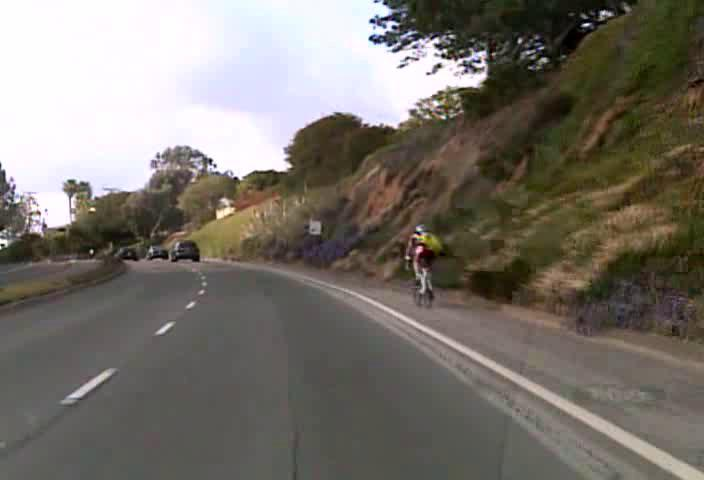speedLimitUrdbl: (308, 220, 321, 235)
